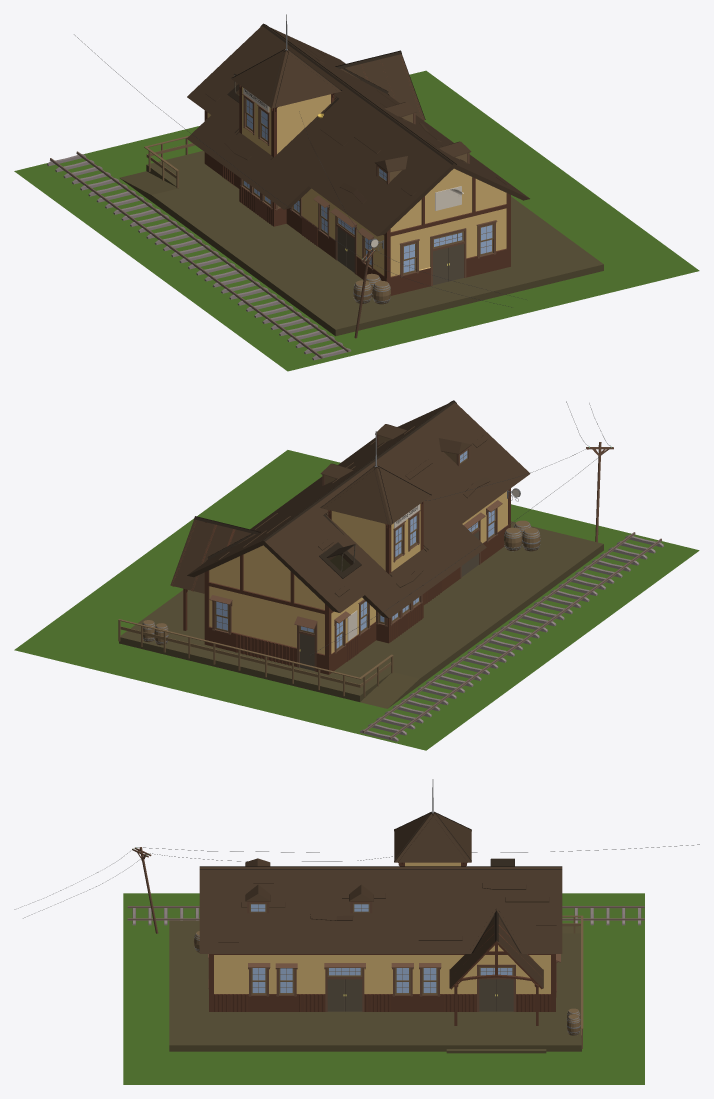
File: railway_station (1).glb
The picture shows the model from 3 angles, top to bottom: view 1: azimuth 30°, elevation 25°; view 2: azimuth 150°, elevation 25°; view 3: azimuth 270°, elevation 25°; orthographic projection. The views are drawn at different scales.
Visible parts, largest first — view 1: Plane.001_479, Plane_621, Cube.003_625, Plane.002_637, Cube.501_482, Cube.008_629, Cube.010_630, Cube.400_645, Cube.120_635, Cube.392_372, Cube.499_480, Cube.500_481 (+5 smaller); view 2: Plane.001_479, Plane_621, Cube.003_625, Plane.002_637, Cube.501_482, Cube.008_629, Cube.400_645, Cube.010_630, Cube.393_373, Cube.120_635, Cube.499_480, Cube.500_481 (+7 smaller); view 3: Plane.001_479, Cube.400_645, Plane_621, Plane.002_637, Cube.010_630, Cube.561_659, Cube.392_372, Cube.393_373, Cube.528_646, Cube.501_482, Cube.368_349, Cube.369_350 (+3 smaller).
Boxes of the visible parts, <box> form: Plane.001_479: <box>14,70,699,371</box>; Plane_621: <box>119,151,603,336</box>; Cube.003_625: <box>187,26,453,236</box>; Plane.002_637: <box>204,113,510,295</box>; Cube.501_482: <box>47,154,351,360</box>; Cube.008_629: <box>186,115,311,209</box>; Cube.010_630: <box>232,50,341,108</box>; Cube.400_645: <box>264,24,529,200</box>; Cube.120_635: <box>242,87,330,154</box>; Cube.392_372: <box>340,54,425,120</box>; Cube.499_480: <box>76,151,349,352</box>; Cube.500_481: <box>50,158,322,358</box>; Plane.001_479: <box>14,450,699,750</box>; Plane_621: <box>119,521,603,708</box>; Cube.003_625: <box>263,402,530,612</box>; Plane.002_637: <box>204,491,510,674</box>; Cube.501_482: <box>360,535,663,741</box>; Cube.008_629: <box>362,524,486,618</box>; Cube.400_645: <box>187,401,452,577</box>; Cube.010_630: <box>321,466,431,524</box>; Cube.393_373: <box>170,519,255,593</box>; Cube.120_635: <box>331,504,420,571</box>; Cube.499_480: <box>362,532,635,732</box>; Cube.500_481: <box>389,538,661,739</box>; Plane.001_479: <box>123,893,644,1084</box>; Cube.400_645: <box>199,867,562,953</box>; Plane_621: <box>169,920,581,1051</box>; Plane.002_637: <box>209,945,555,1011</box>; Cube.010_630: <box>394,812,471,862</box>; Cube.561_659: <box>241,883,549,940</box>; Cube.392_372: <box>449,916,496,988</box>; Cube.393_373: <box>496,916,543,988</box>; Cube.528_646: <box>199,866,562,869</box>; Cube.501_482: <box>132,908,641,925</box>; Cube.368_349: <box>327,979,344,1011</box>; Cube.369_350: <box>345,979,362,1011</box>.
Size of the model in its own units: 31.11 by 14.49 by 47.07.
